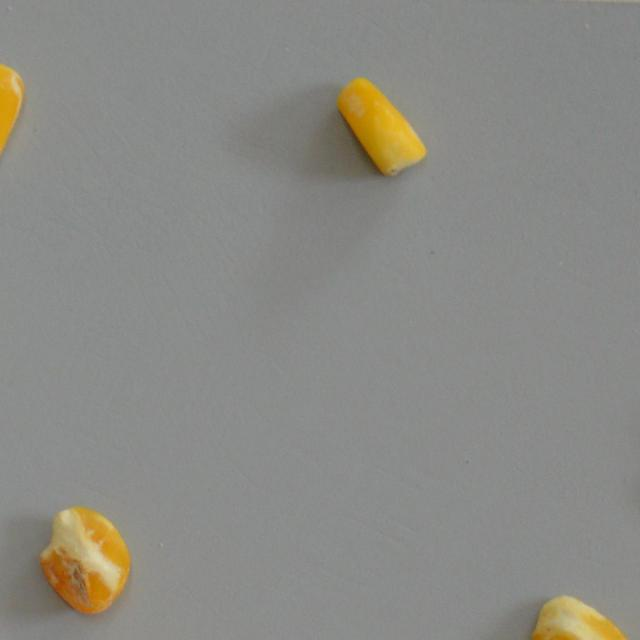dañado: (38, 504, 133, 616)
pelicula: (528, 590, 638, 640), (0, 51, 24, 163)
punto_negro: (332, 76, 430, 180)
